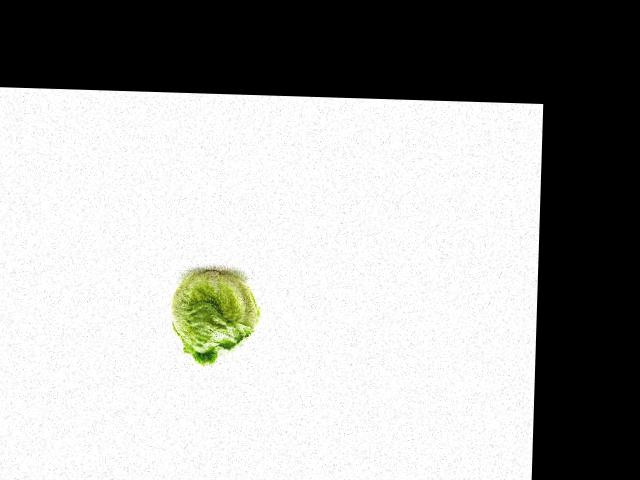lettuce: (166, 265, 269, 368)
